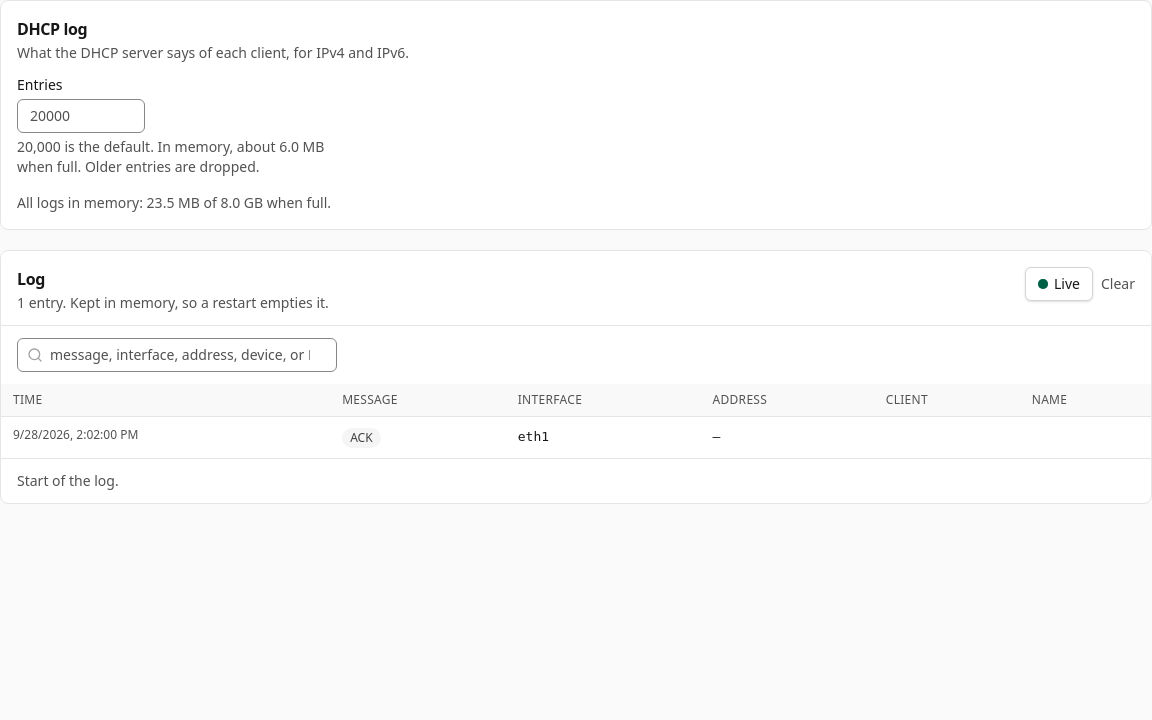
Test case: DHCP log › clears the router’s log, once asked
This screenshot has width=1152, height=720.
Click the button "Clear": click(1118, 284) [1101,274,1135,294]
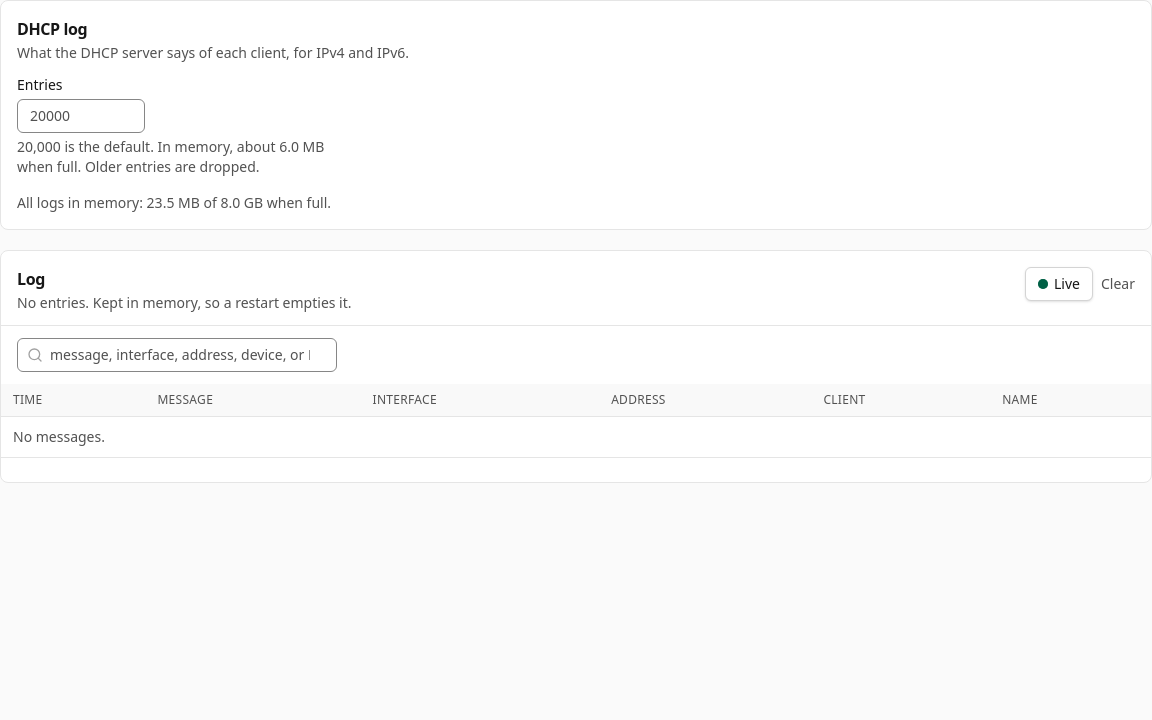
Expected: the text "No messages." is shown, [1,416,1151,457]
